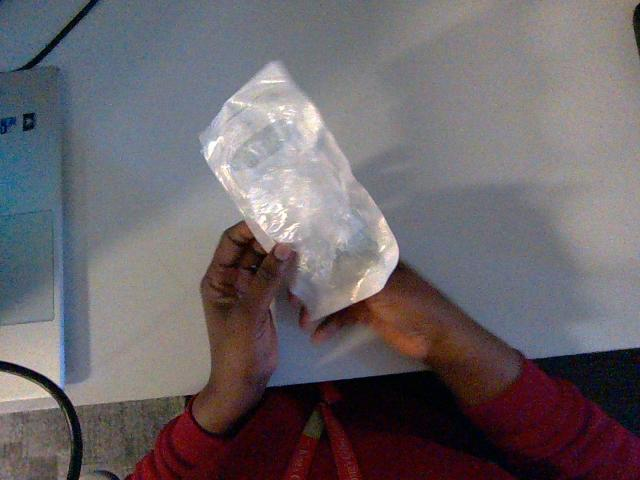gallipot: (200, 62, 398, 318)
